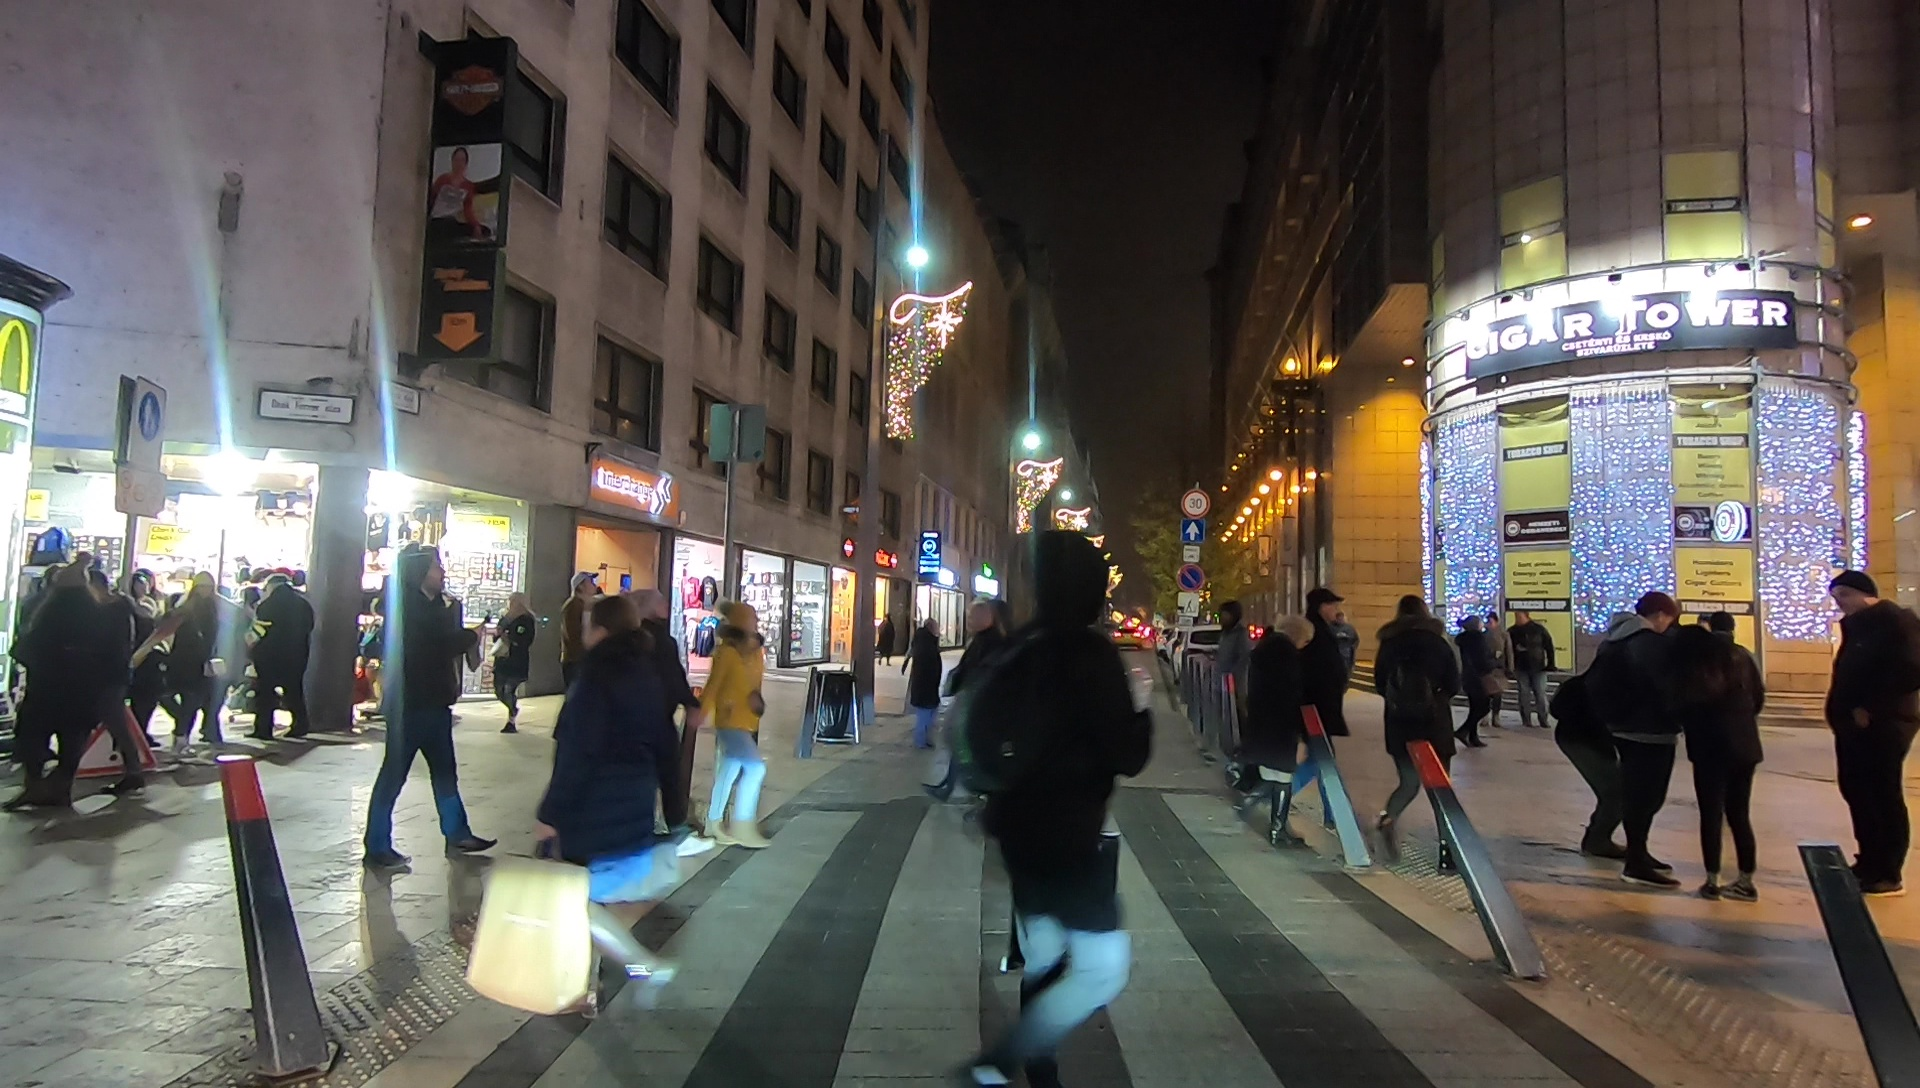person: (969, 530, 1131, 1088), (501, 599, 676, 1010), (371, 537, 493, 861), (1819, 571, 1919, 910), (1554, 578, 1667, 863), (30, 561, 138, 810), (1686, 621, 1771, 908), (1373, 589, 1458, 869), (1621, 615, 1686, 900), (699, 606, 775, 849), (1241, 613, 1314, 860), (1293, 586, 1356, 843), (165, 569, 241, 750), (249, 567, 319, 737), (554, 571, 608, 719), (899, 617, 949, 754), (491, 591, 532, 734), (1449, 613, 1491, 752), (1512, 608, 1554, 726), (1478, 613, 1508, 728)
